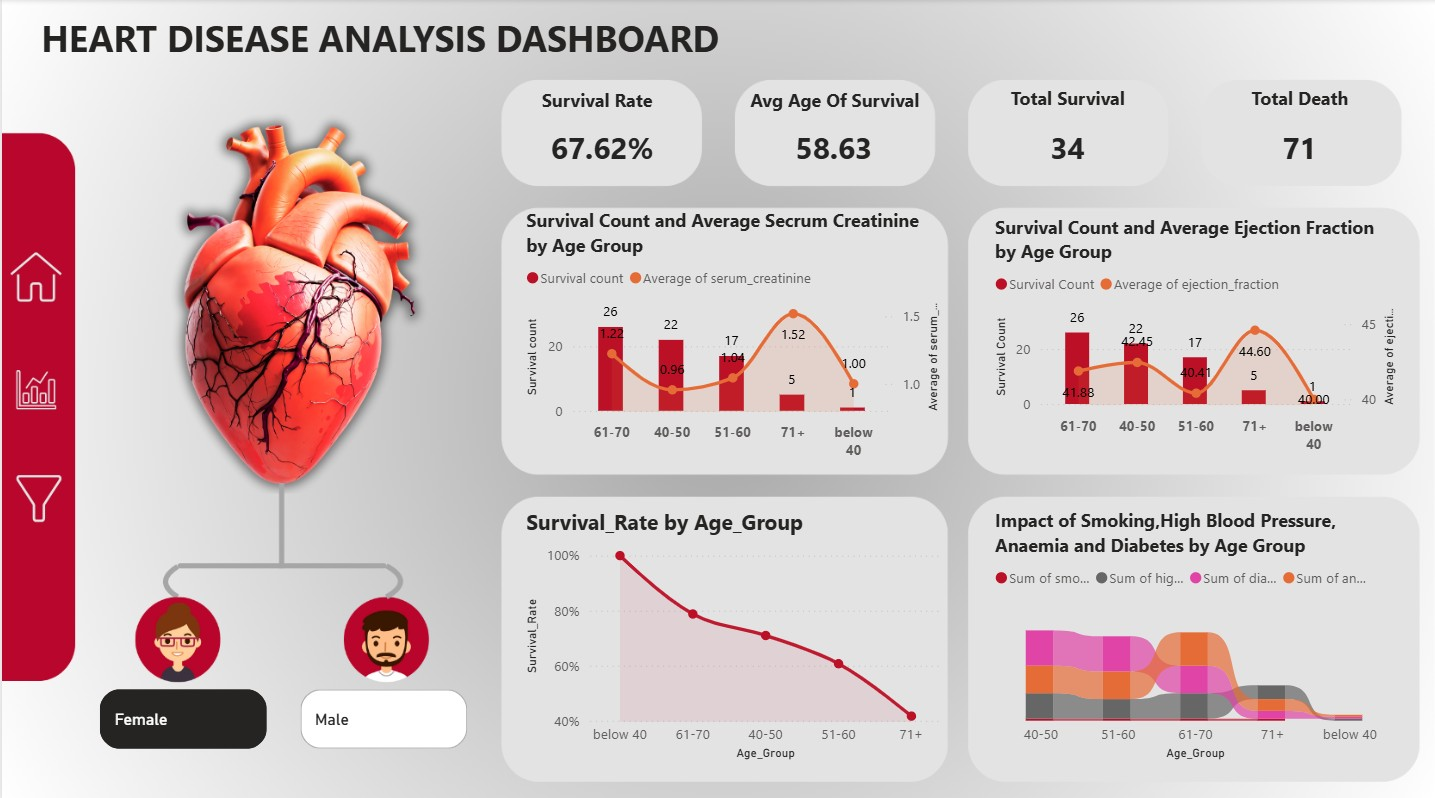

What the dashboard file says about the page in this screenshot:
{"tool":"powerbi","page":{"name":"Page 1","canvas":[1280,720],"ordinal":0},"visuals":[{"type":"textbox","box":[20.9,0,626.7,55.8],"z":0},{"type":"card","fields":{"Values":["heart_Disease_clinical_records_.Survival_Rate"]},"box":[445.4,105.8,181.4,54.7],"z":1},{"type":"card","fields":{"Values":["heart_Disease_clinical_records_.Average_Age_Servial"]},"box":[653.5,105.8,180.2,54.7],"z":2},{"type":"card","fields":{"Values":["heart_Disease_clinical_records_.Total_Serviour"]},"box":[1067.4,105.8,183.7,54.7],"z":3},{"type":"card","fields":{"Values":["heart_Disease_clinical_records_.Total_Death"]},"box":[864,105.8,175.6,54.7],"z":4},{"type":"textbox","box":[445.4,73.3,172.1,32.6],"z":5},{"type":"lineClusteredColumnComboChart","title":"Survival Count and Average Secrum Creatinine by Age Group","fields":{"Category":["heart_Disease_clinical_records_.Age_Group"],"Y":["CountNonNull(heart_Disease_clinical_records_.DEATH_EVENT)"],"Y2":["Avg(heart_Disease_clinical_records_.serum_creatinine)"]},"box":[464,186,380.2,232.6],"z":6},{"type":"lineClusteredColumnComboChart","title":"Survival Count and Average Ejection Fraction by Age Group","fields":{"Category":["heart_Disease_clinical_records_.Age_Group"],"Y":["CountNonNull(heart_Disease_clinical_records_.DEATH_EVENT)"],"Y2":["Avg(heart_Disease_clinical_records_.ejection_fraction)"]},"box":[882.6,191.9,368.6,220.9],"z":7},{"type":"lineChart","fields":{"Category":["heart_Disease_clinical_records_.Age_Group"],"Y":["heart_Disease_clinical_records_.Survival_Rate"]},"box":[464,454.7,380.2,230.2],"z":8},{"type":"ribbonChart","title":"Impact of Smoking,High Blood Pressure, Anaemia and Diabetes by Age Group","fields":{"Category":["heart_Disease_clinical_records_.Age_Group"],"Y":["Sum(heart_Disease_clinical_records_.smoking)","Sum(heart_Disease_clinical_records_.high_blood_pressure)","Sum(heart_Disease_clinical_records_.diabetes)","Sum(heart_Disease_clinical_records_.anaemia)"]},"box":[882.6,454.7,368.6,230.2],"z":9},{"type":"advancedSlicerVisual","fields":{"Values":["heart_Disease_clinical_records_.Gender"]},"box":[84.9,610.5,339.5,64],"z":10},{"type":"textbox","box":[654.7,73.3,179.1,40.7],"z":11},{"type":"textbox","box":[864,72.1,175.6,33.7],"z":12},{"type":"textbox","box":[1067.4,72.1,183.7,33.7],"z":13}]}

Visuals, with their boxes in screenshot pixels (x1, y1, x2, y2), scaled from the page's 1280x720 canvas onto the 1435x798 screenshot:
textbox: (23, 0, 726, 62)
card - heart_Disease_clinical_records_.Survival_Rate: (499, 117, 703, 178)
card - heart_Disease_clinical_records_.Average_Age_Servial: (733, 117, 935, 178)
card - heart_Disease_clinical_records_.Total_Serviour: (1197, 117, 1403, 178)
card - heart_Disease_clinical_records_.Total_Death: (969, 117, 1165, 178)
textbox: (499, 81, 692, 117)
"Survival Count and Average Secrum Creatinine by Age Group" lineClusteredColumnComboChart: (520, 206, 946, 464)
"Survival Count and Average Ejection Fraction by Age Group" lineClusteredColumnComboChart: (989, 213, 1403, 458)
lineChart - heart_Disease_clinical_records_.Age_Group x heart_Disease_clinical_records_.Survival_Rate: (520, 504, 946, 759)
"Impact of Smoking,High Blood Pressure, Anaemia and Diabetes by Age Group" ribbonChart: (989, 504, 1403, 759)
advancedSlicerVisual - heart_Disease_clinical_records_.Gender: (95, 677, 476, 748)
textbox: (734, 81, 935, 126)
textbox: (969, 80, 1165, 117)
textbox: (1197, 80, 1403, 117)
